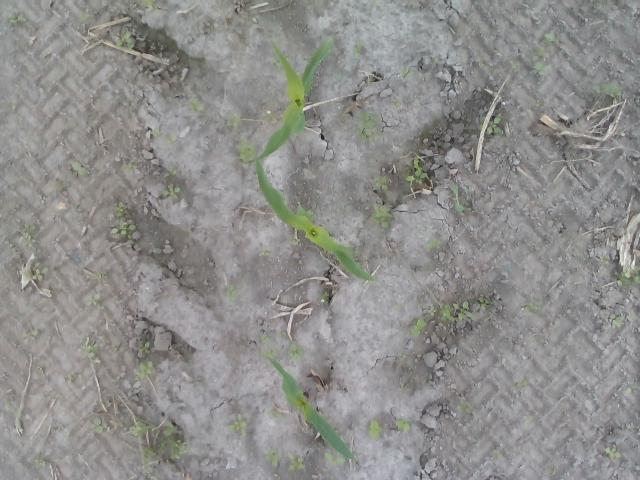Maize: (255, 155, 378, 281), (252, 36, 334, 163), (264, 352, 355, 462)
Weeds: (128, 414, 190, 472), (449, 183, 481, 215), (78, 334, 110, 360), (528, 48, 552, 80), (357, 110, 379, 142), (18, 258, 48, 281), (439, 302, 475, 320), (404, 159, 428, 184), (368, 204, 392, 228), (224, 414, 248, 438), (134, 358, 160, 380), (116, 30, 144, 50), (110, 222, 136, 240), (592, 83, 623, 98), (260, 334, 280, 357), (16, 222, 33, 248), (617, 267, 640, 286), (160, 184, 185, 201), (407, 318, 428, 338), (286, 451, 306, 472), (367, 417, 383, 441), (112, 160, 137, 175), (486, 116, 504, 136), (324, 451, 348, 466), (112, 200, 128, 222), (238, 144, 256, 163), (264, 446, 281, 466), (71, 160, 92, 176), (286, 342, 304, 360), (393, 416, 413, 432), (424, 238, 444, 253), (95, 415, 112, 432), (374, 175, 391, 192), (191, 95, 208, 112), (456, 400, 474, 416), (520, 302, 544, 314), (604, 446, 624, 460), (3, 398, 18, 416), (7, 14, 27, 27), (544, 30, 560, 46), (400, 64, 416, 80), (86, 288, 102, 304), (78, 9, 95, 24), (32, 456, 50, 470), (608, 314, 626, 328), (226, 110, 240, 128), (478, 296, 494, 311), (134, 0, 157, 10), (522, 414, 534, 433), (223, 286, 239, 300), (352, 39, 364, 57), (272, 54, 290, 66), (600, 253, 610, 274), (398, 352, 409, 370), (270, 410, 288, 421), (512, 377, 528, 389), (260, 110, 276, 122), (318, 290, 330, 304), (425, 304, 437, 318), (164, 165, 178, 177), (258, 246, 272, 258), (20, 328, 40, 336), (547, 464, 559, 476), (66, 370, 78, 382), (238, 127, 246, 145), (7, 99, 18, 111), (138, 341, 150, 352), (510, 60, 520, 73), (626, 384, 640, 393), (288, 236, 300, 246), (166, 132, 176, 144), (431, 55, 442, 65), (392, 98, 402, 107), (536, 99, 544, 108), (152, 127, 160, 136), (277, 330, 288, 336), (479, 118, 484, 128), (362, 255, 368, 261)
